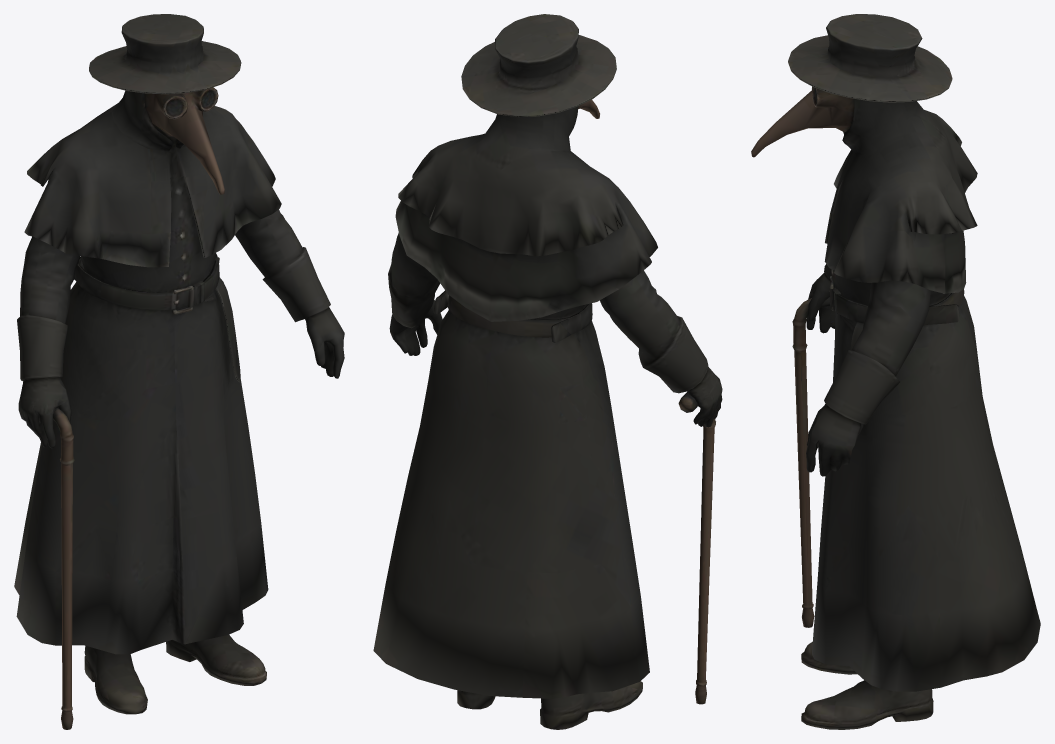
The model's file is plague.glb.
3 views of the same model, side by side, from view 1: azimuth 30°, elevation 25°; view 2: azimuth 150°, elevation 25°; view 3: azimuth 270°, elevation 25° (orthographic). The views are drawn at different scales.
Visible parts, largest first — view 1: tripo_node_0eae2a18-1ffb-4e16-9981-4de661fa7f86; view 2: tripo_node_0eae2a18-1ffb-4e16-9981-4de661fa7f86; view 3: tripo_node_0eae2a18-1ffb-4e16-9981-4de661fa7f86.
Boxes of the visible parts, <box> form: tripo_node_0eae2a18-1ffb-4e16-9981-4de661fa7f86: <box>14,14,344,729</box>; tripo_node_0eae2a18-1ffb-4e16-9981-4de661fa7f86: <box>373,14,722,729</box>; tripo_node_0eae2a18-1ffb-4e16-9981-4de661fa7f86: <box>751,14,1040,729</box>.
Size of the model in its own units: 0.5093 by 0.9995 by 0.394.
Materials: 1 (1 with a texture image).
